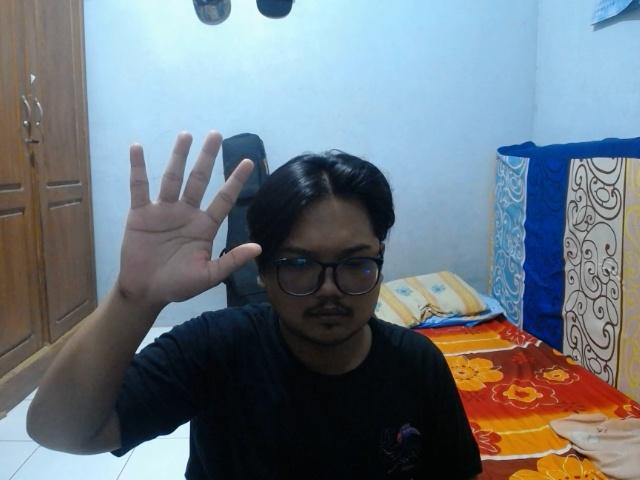Release: (118, 127, 266, 304)
